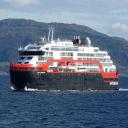cruises: (11, 24, 121, 92)
